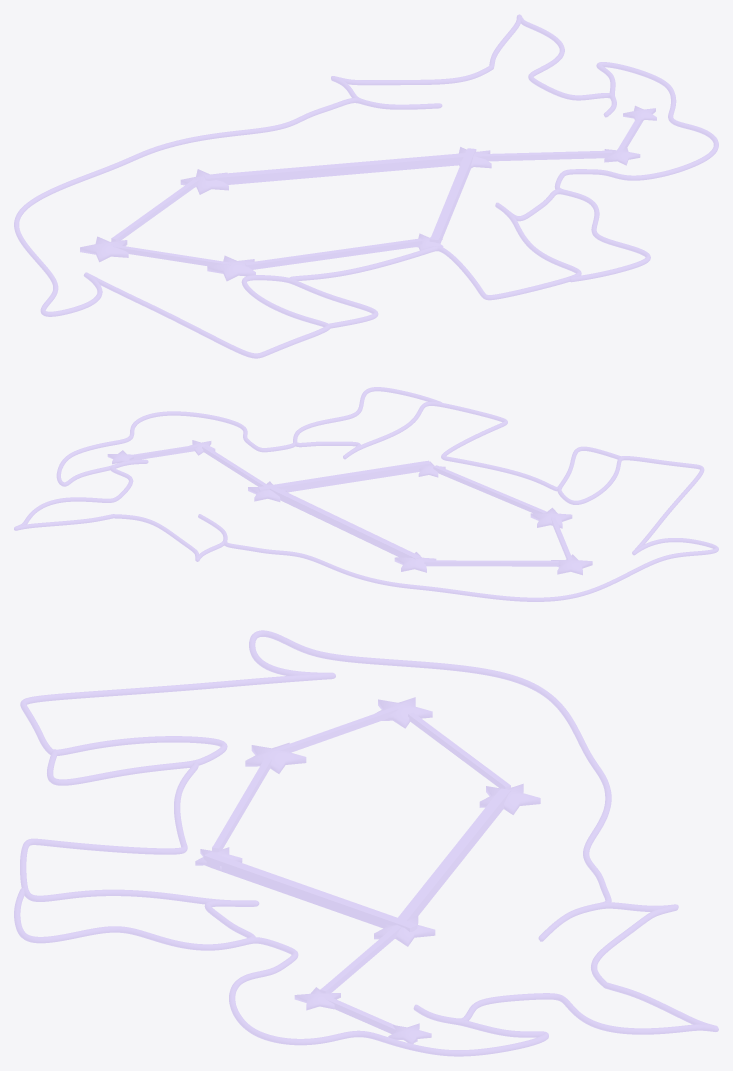
The model's file is rhino.glb.
The picture shows the model from 3 angles, top to bottom: view 1: azimuth 30°, elevation 25°; view 2: azimuth 150°, elevation 25°; view 3: azimuth 270°, elevation 25°; orthographic projection. The views are drawn at different scales.
Visible parts, largest first — view 1: NurbsPath.030, Cube.001, Cube.011, Cube.008, Cube.009, Cube.003, Cube.004, star18.009, star18.010; view 2: NurbsPath.030, Cube.001, Cube.008, Cube.003, Cube.011, Cube.009, star18.010, star18.009, Cube.010, star18.002; view 3: NurbsPath.030, Cube.008, Cube.001, Cube.003, Cube.004, Cube.011, Cube.009, star18.010, star18.009, star18.002, Cube.010, star18.003.
Boxes of the visible parts, <box> form: NurbsPath.030: <box>14,14,718,358</box>; Cube.001: <box>204,152,471,184</box>; Cube.011: <box>245,238,422,269</box>; Cube.008: <box>429,148,476,243</box>; Cube.009: <box>473,150,612,161</box>; Cube.003: <box>111,179,198,241</box>; Cube.004: <box>111,244,230,266</box>; star18.009: <box>80,236,128,262</box>; star18.010: <box>207,255,255,281</box>; NurbsPath.030: <box>14,387,718,601</box>; Cube.001: <box>267,485,420,559</box>; Cube.008: <box>258,460,430,492</box>; Cube.003: <box>424,560,558,566</box>; Cube.011: <box>433,465,546,513</box>; Cube.009: <box>202,446,268,486</box>; star18.010: <box>530,507,572,528</box>; star18.009: <box>551,554,592,575</box>; Cube.010: <box>129,445,198,460</box>; star18.002: <box>394,552,436,572</box>; NurbsPath.030: <box>14,630,718,1056</box>; Cube.008: <box>204,852,417,931</box>; Cube.001: <box>394,788,511,923</box>; Cube.003: <box>408,712,510,789</box>; Cube.004: <box>273,707,398,752</box>; Cube.011: <box>212,758,271,851</box>; Cube.009: <box>319,925,401,993</box>; star18.010: <box>245,742,306,773</box>; star18.009: <box>375,697,432,728</box>; star18.002: <box>479,783,540,814</box>; Cube.010: <box>323,994,417,1042</box>; star18.003: <box>374,915,435,946</box>.
Size of the model in its own units: 19.2 by 0.3757 by 13.54.
